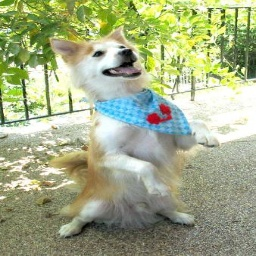dog: (48, 28, 219, 236)
